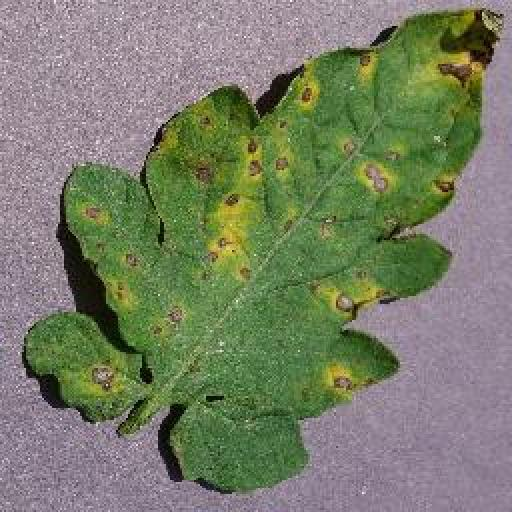disease_tomato: (22, 8, 504, 494)
